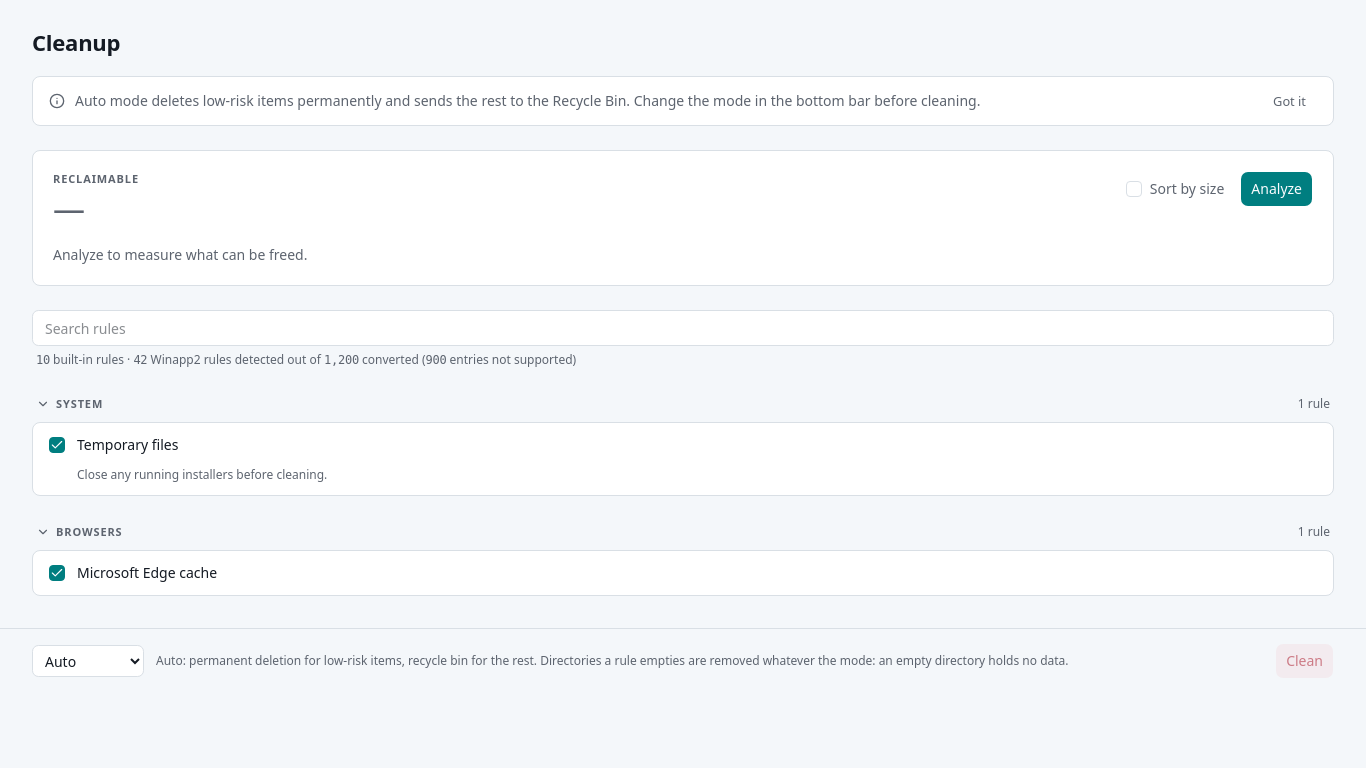
Test: CleanPanel › shows the size of an unchecked rule after a scan
Check: the checkbox named "Temporary files" is shown, box [49, 437, 65, 453]
Click the checkbox named "Microsoft Edge cache" at (57, 573), box [49, 565, 65, 581]
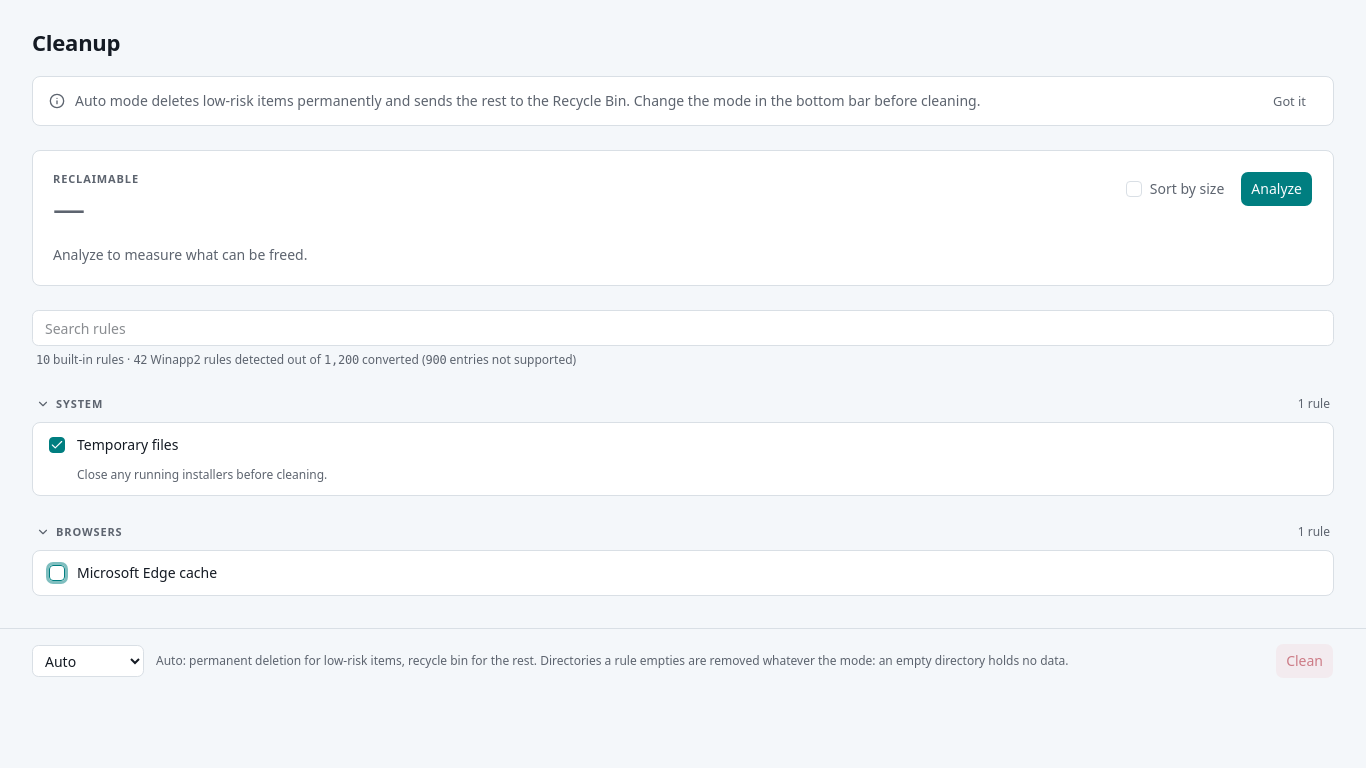
Click the button "Analyze" at (1277, 189), box [1240, 171, 1313, 207]
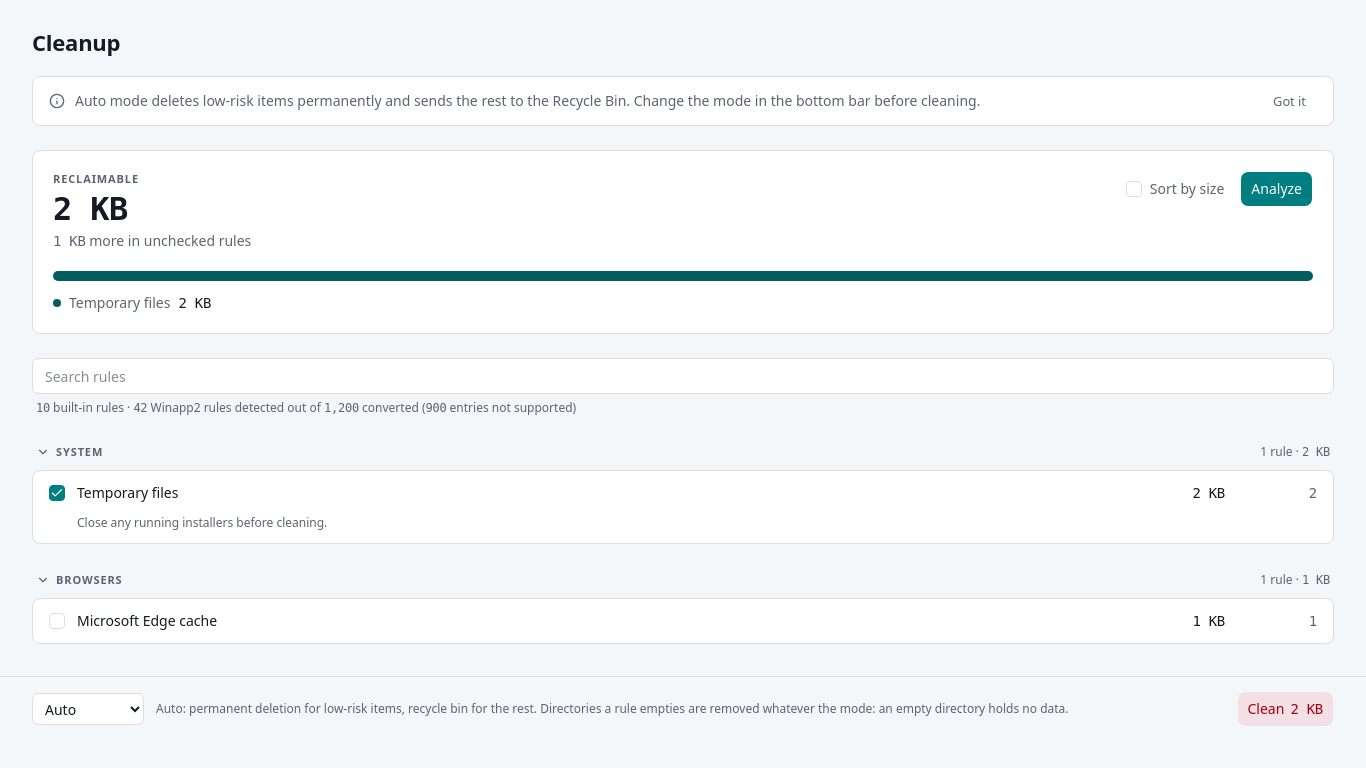
Check: the checkbox named "Microsoft Edge cache" is not checked, box [49, 613, 65, 629]
Check: the element with test id "result-edge.cache" shows "1 KB", box [1192, 613, 1225, 629]
